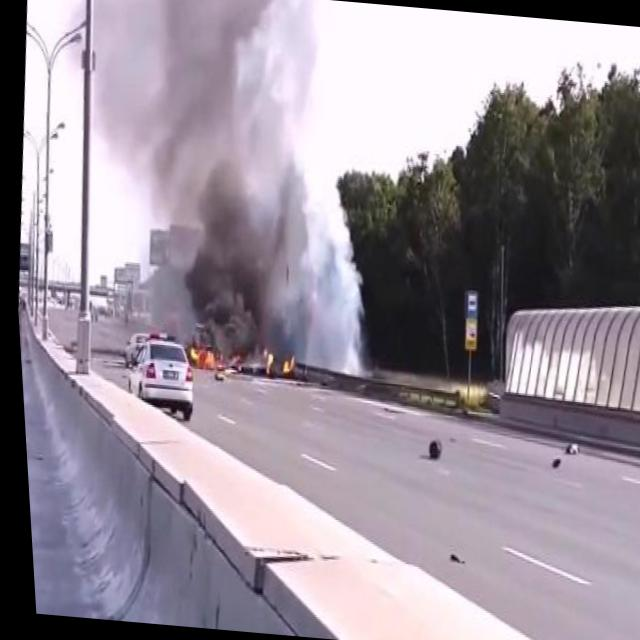fire: (181, 338, 237, 378), (274, 347, 296, 377), (252, 345, 273, 373)
